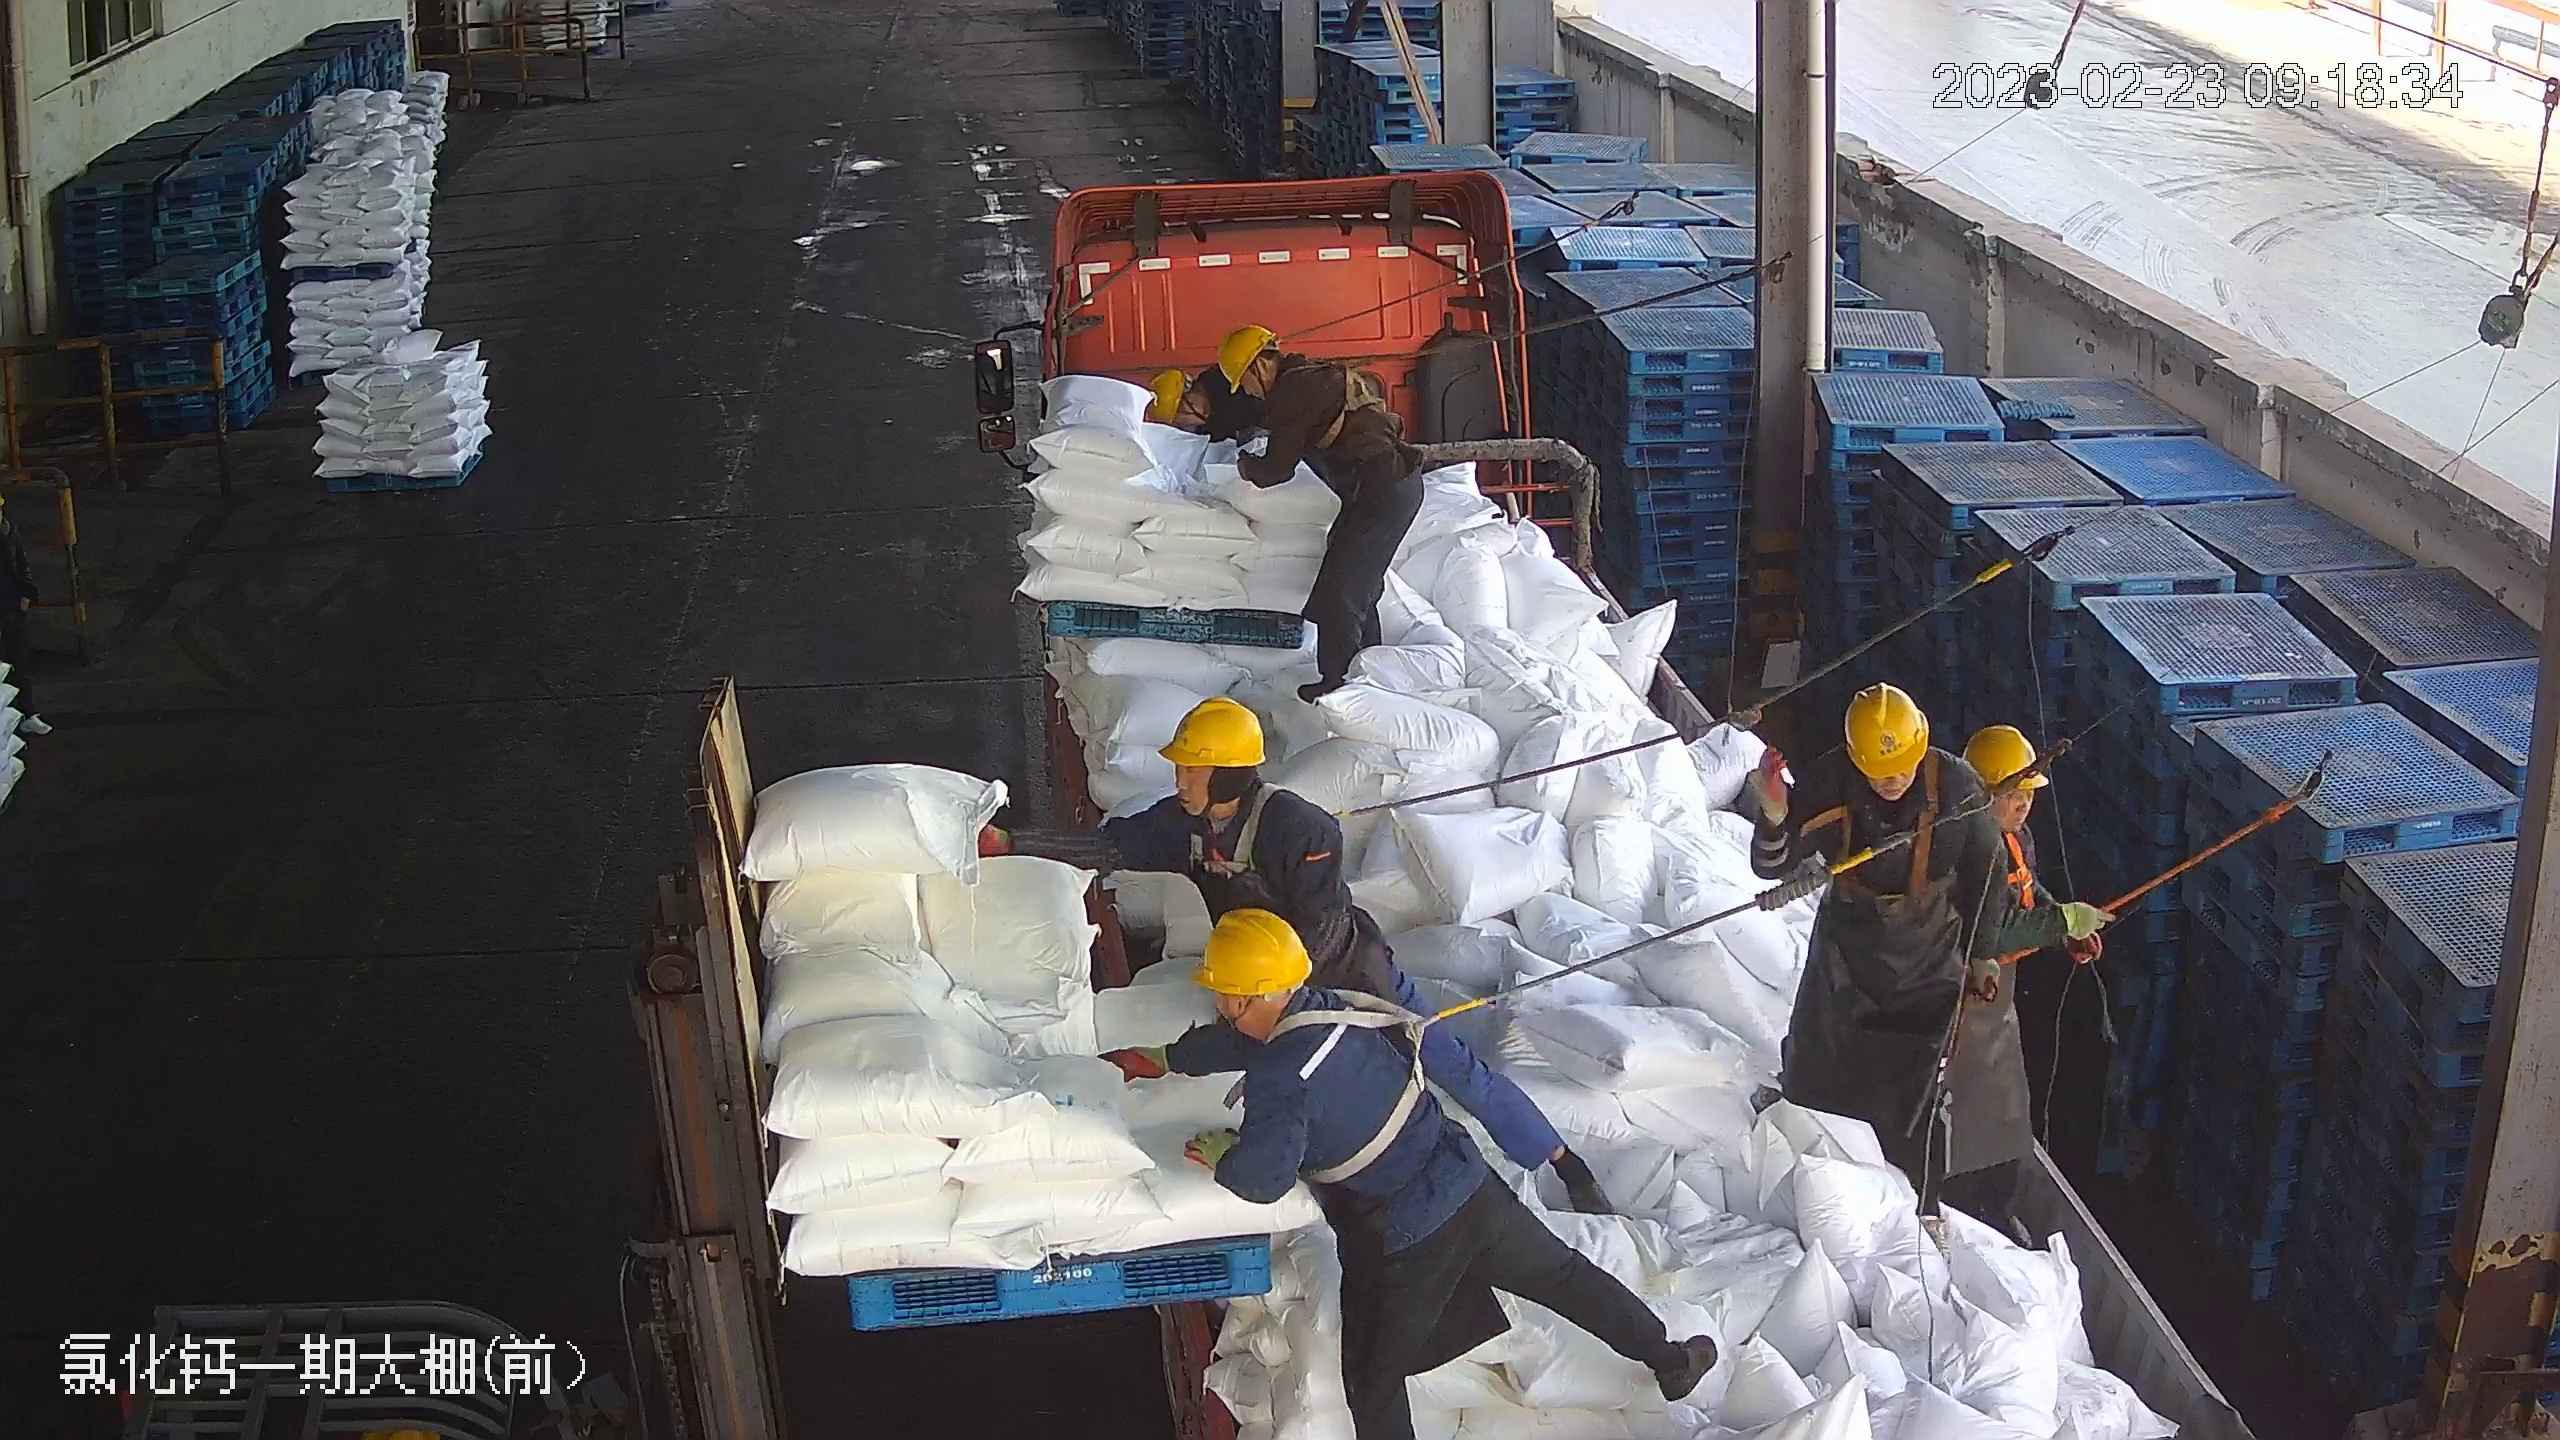belt: (1282, 997, 1492, 1183), (1827, 782, 1960, 914), (1284, 354, 1398, 447), (1184, 788, 1288, 882), (1973, 810, 2052, 927)
head: (1190, 904, 1372, 1107), (1135, 695, 1329, 871), (1813, 682, 1969, 836), (1956, 719, 2060, 858), (1222, 321, 1350, 427)
helmet: (1191, 905, 1312, 993), (1842, 681, 1930, 776), (1160, 695, 1266, 767), (1959, 719, 2041, 789), (1215, 320, 1277, 391), (1141, 364, 1191, 420)
people: (1106, 915, 1703, 1440), (1752, 682, 2022, 1228), (1945, 711, 2100, 1242), (1217, 322, 1425, 707)
truck: (990, 169, 2256, 1435)
